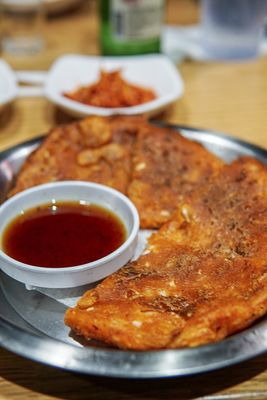sushi: (0, 180, 141, 291), (43, 54, 186, 117)
